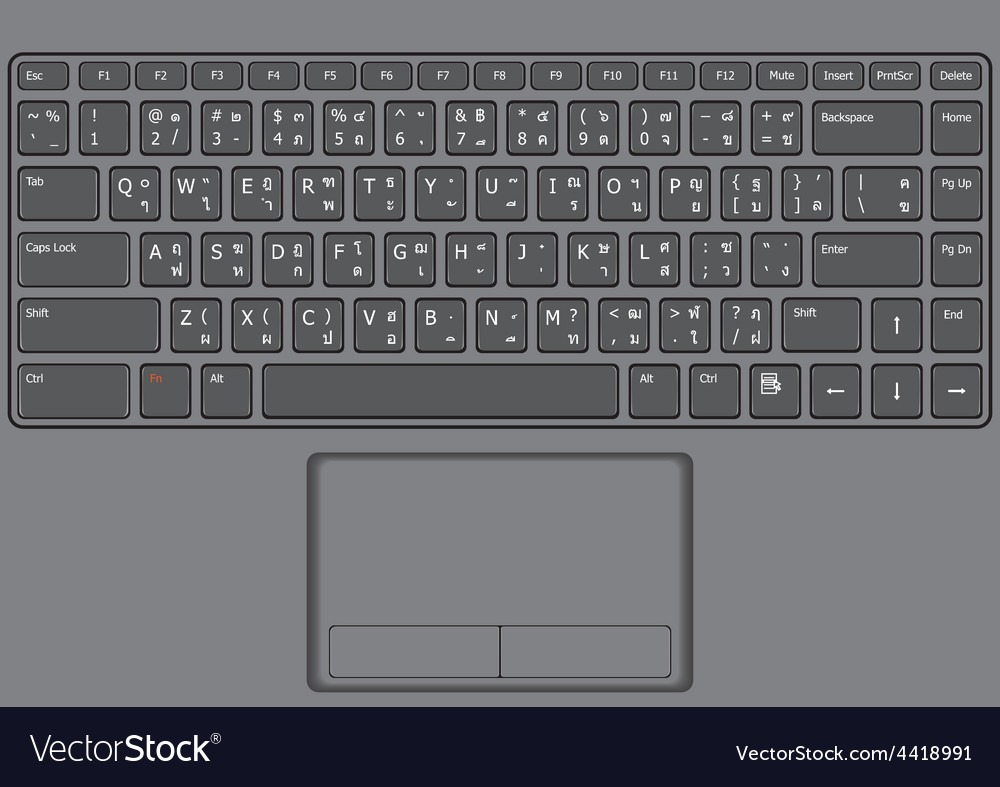keyboard: (10, 47, 996, 429)
